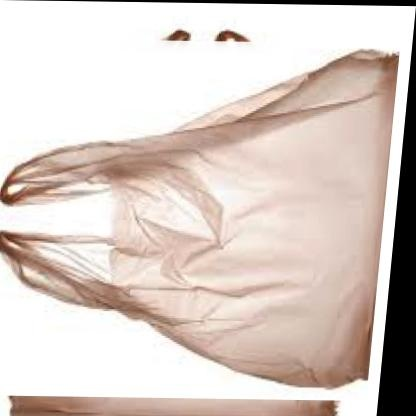trash: (0, 50, 397, 387)
